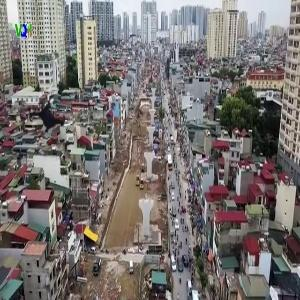drone: (26, 91, 77, 142)
